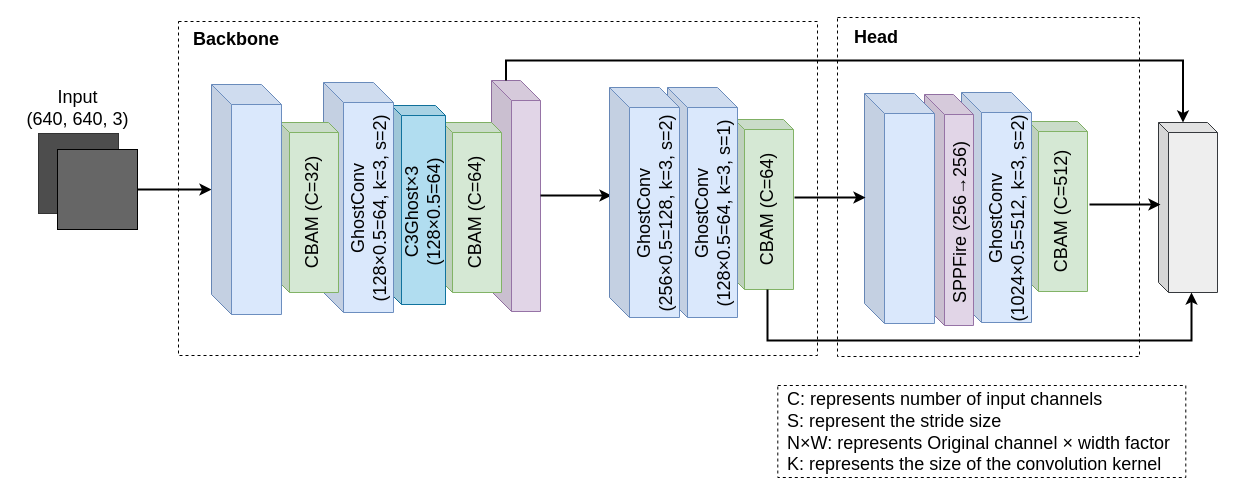
This 1235x495 diagram has some shape labels left out. Here are the shapes that lost their labels. From the top down, the centre of each, then its label:
the point at 246,199: GhostConv (64×0.5=32, k=3, s=2)
the point at 515,196: SPPFire (64→64)
the point at 899,208: GhostConv (512×0.5=256, k=3, s=2)
the point at 1188,207: Detect Anchors:4 scales
